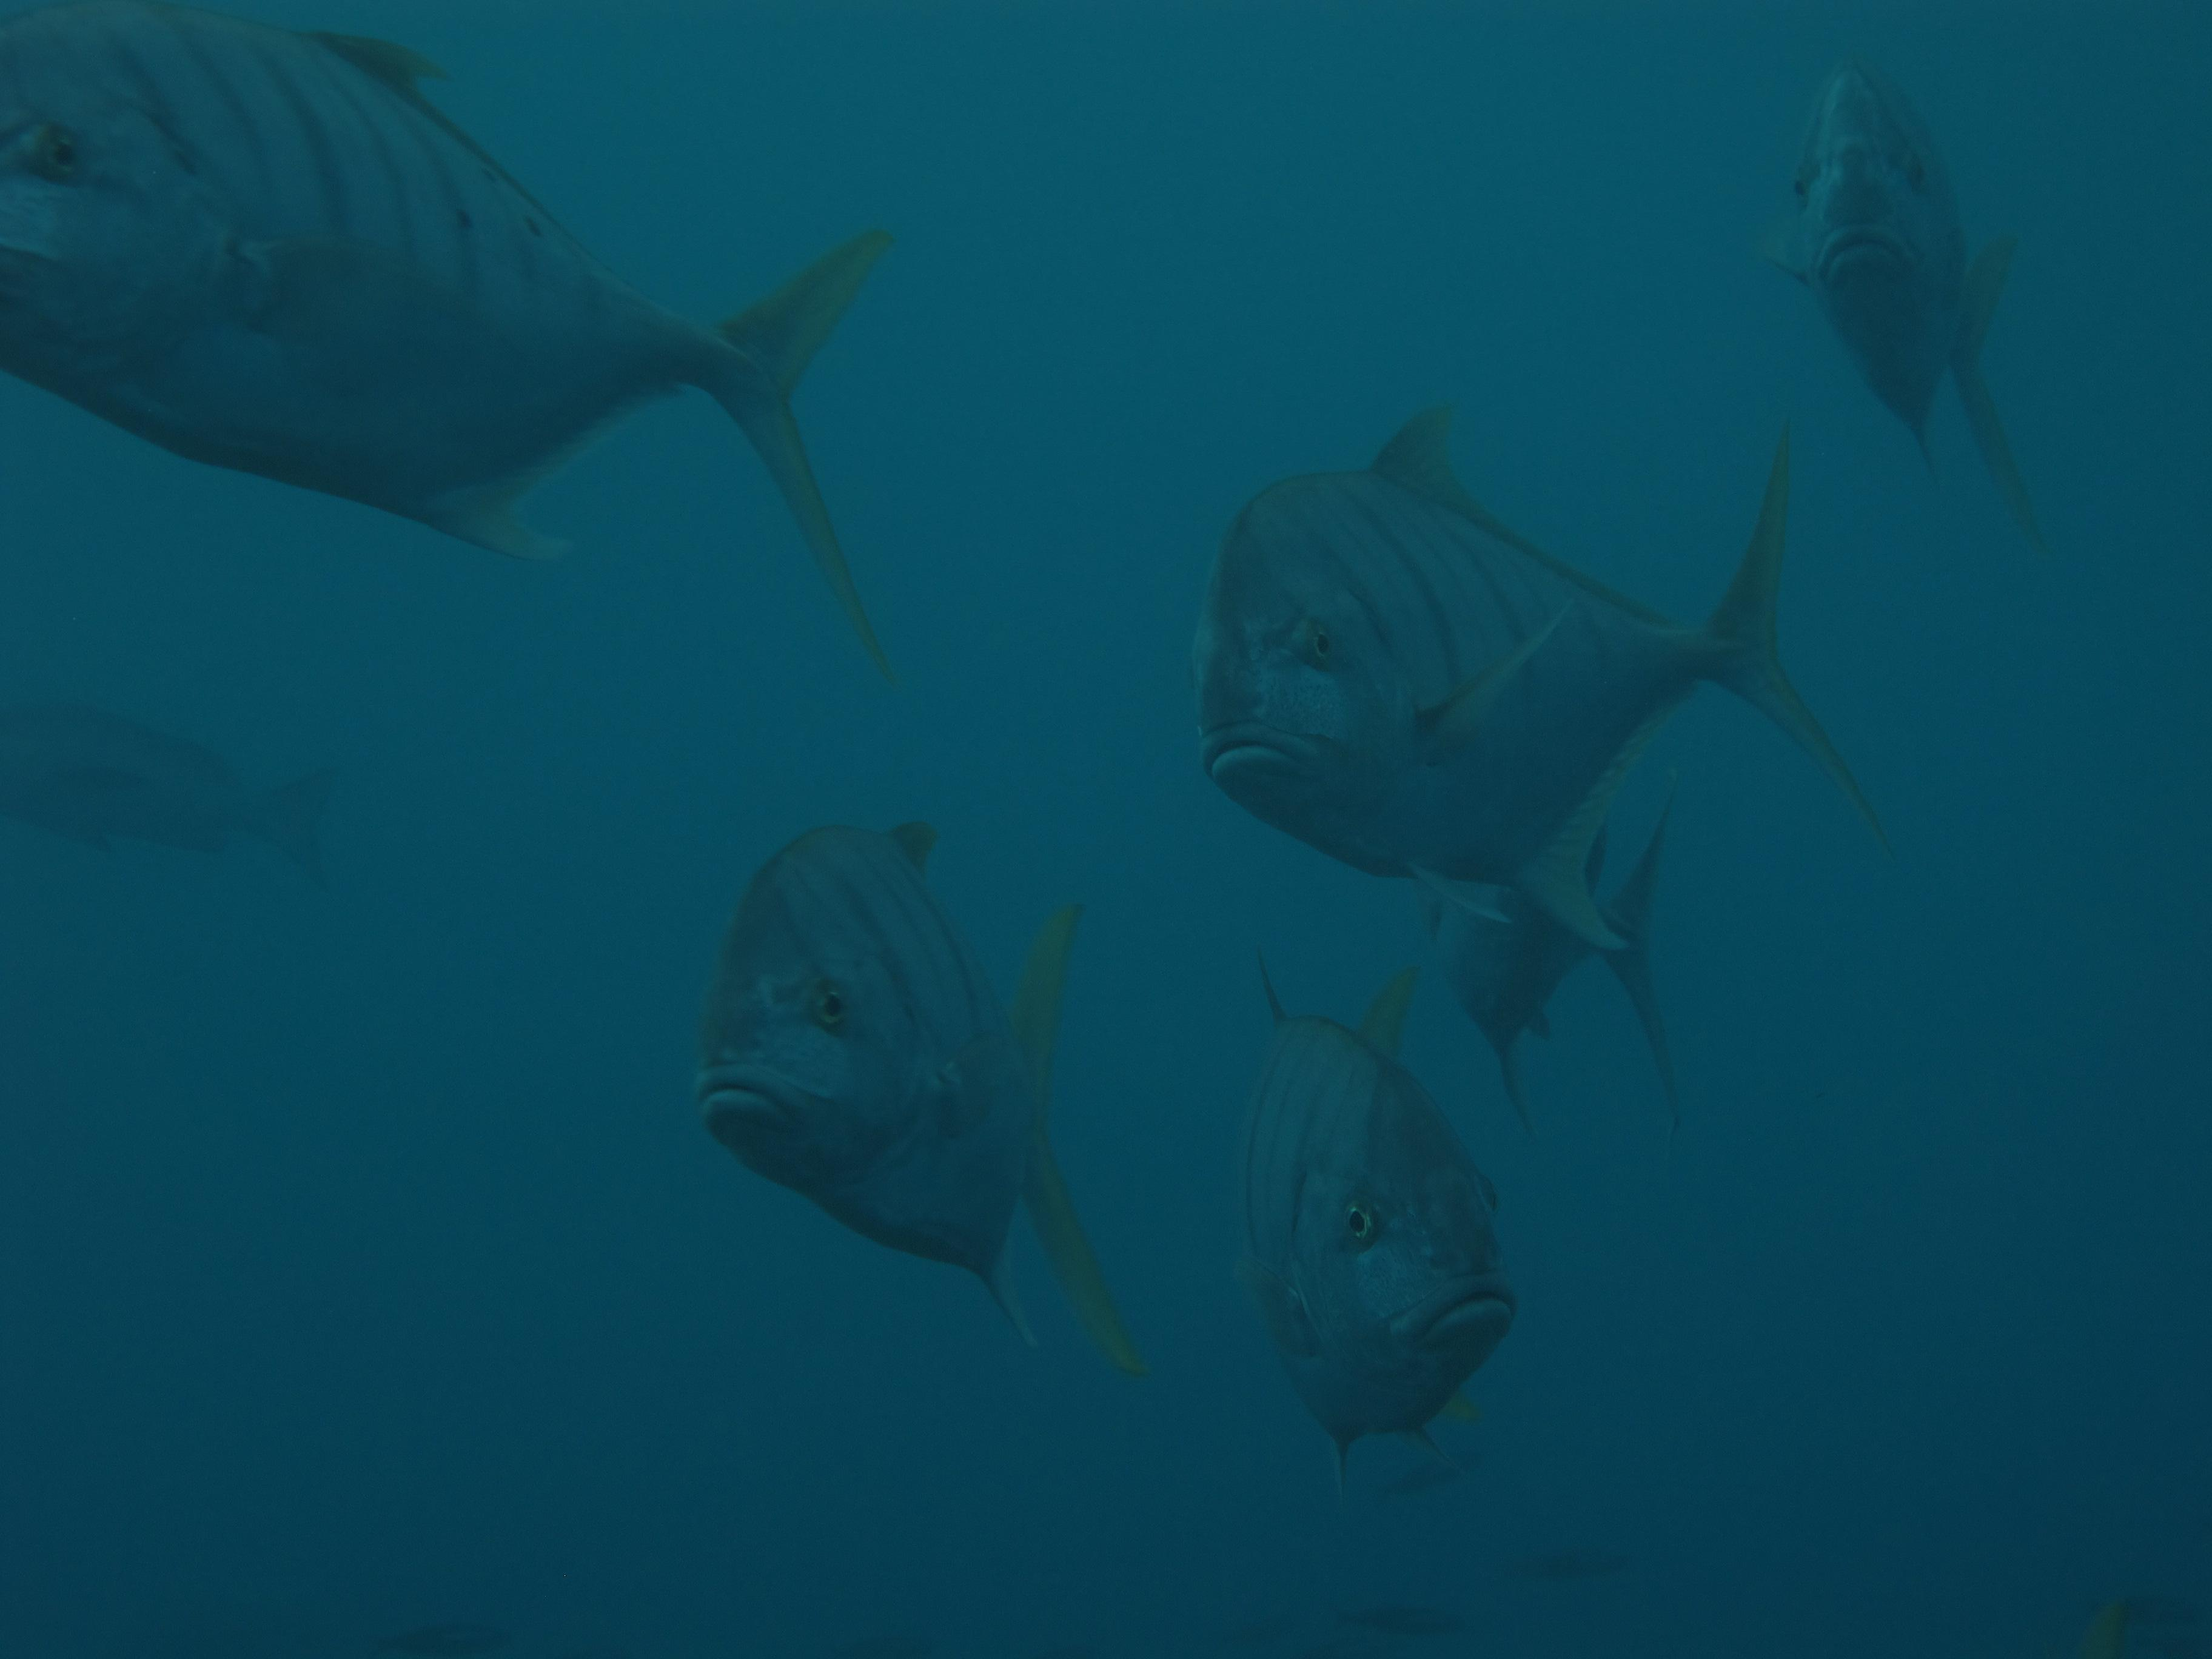Fish: (0, 0, 958, 725), (1186, 397, 1933, 906), (678, 769, 1150, 1382), (1207, 967, 1545, 1493), (1777, 77, 2113, 577)
